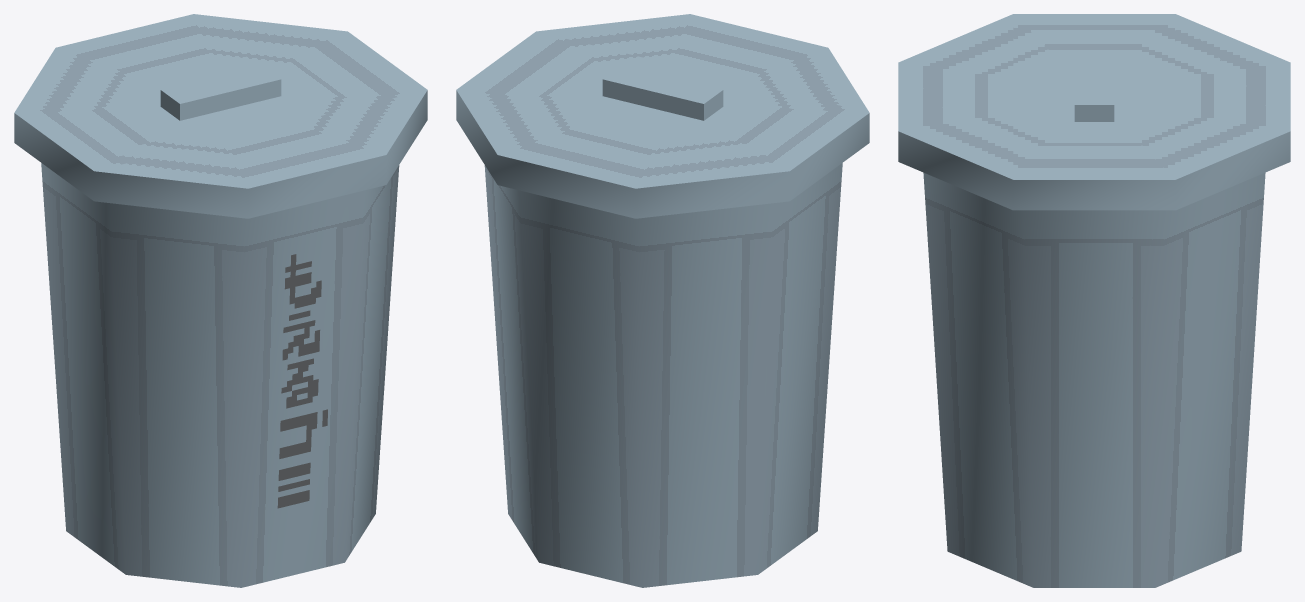
The model's file is 00b8_Bucket.glb.
3 renders of one model, left to right at view 1: azimuth 30°, elevation 25°; view 2: azimuth 150°, elevation 25°; view 3: azimuth 270°, elevation 25°, orthographic.
Parts seen in each view (by area): view 1: part_0; view 2: part_0; view 3: part_0.
Part boxes in pixels (box(x1,y1,x2,y2)): part_0: box(14, 14, 427, 587); part_0: box(456, 14, 869, 587); part_0: box(898, 14, 1290, 587).
Size of the model in its own units: 0.4933 by 0.6187 by 0.4933.
Materials: 1 (1 with a texture image).
